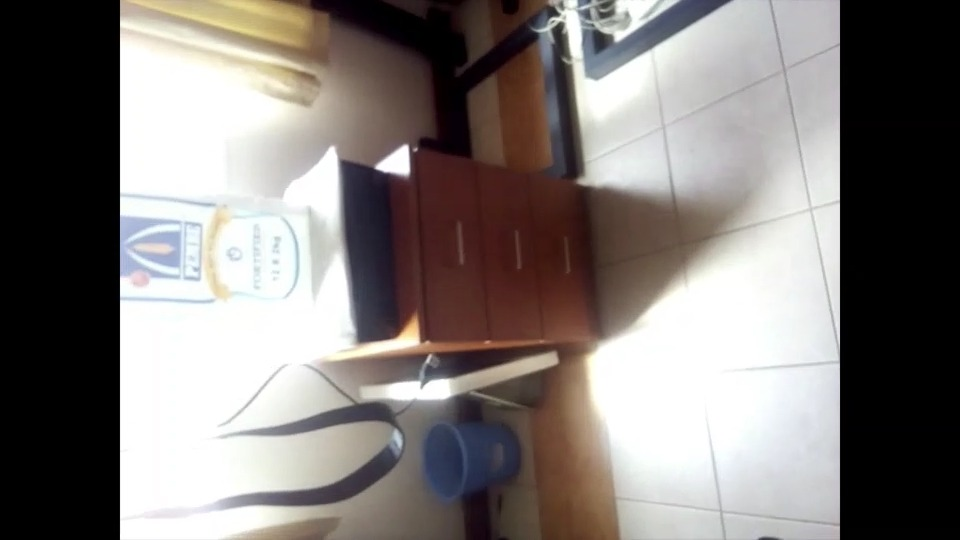wheat_flour_blue_label: (312, 322, 425, 540), (122, 203, 312, 322)
